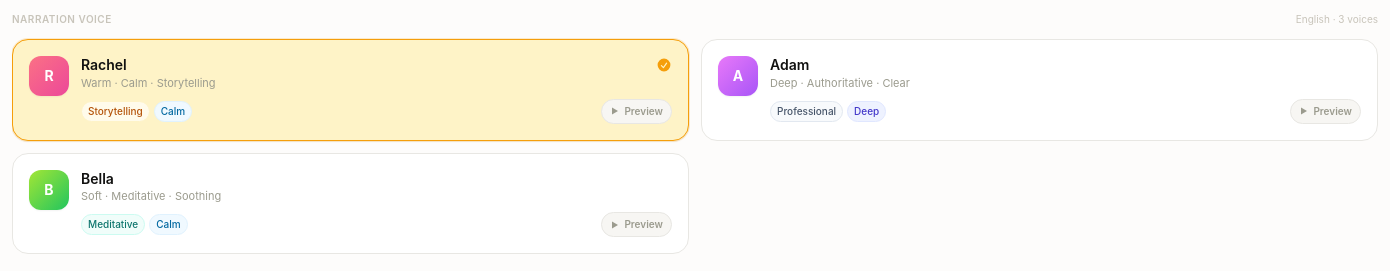
Scenario: VoicePicker › shows Failed when preview API throws
Click the button with aria-label "preview rachel". click: (637, 111)
box: [601,99,672,124]
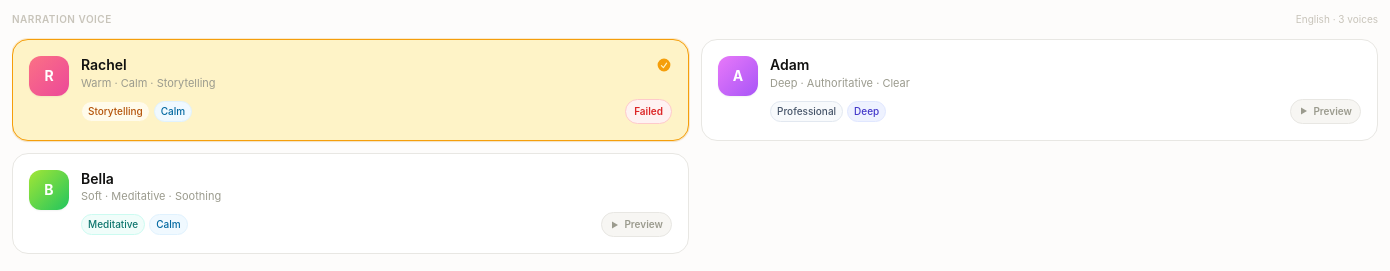
Now the button "Failed" is shown, box [625,99,672,124]
